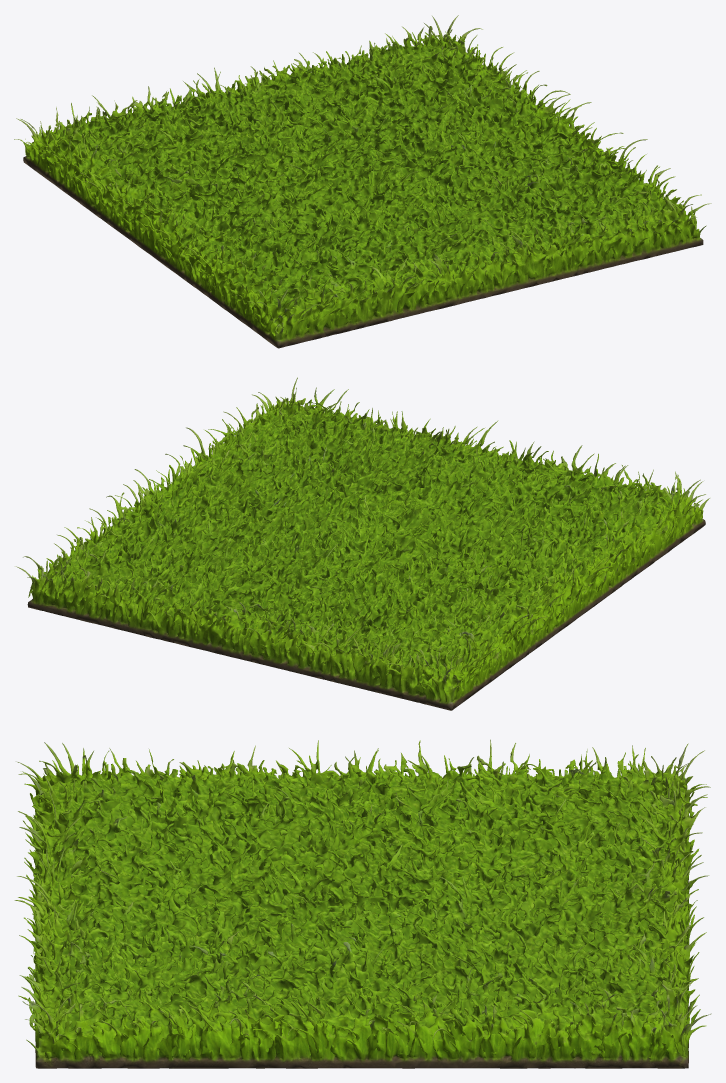
Rendered from emerald_meadow.glb.
The picture shows the model from 3 angles, top to bottom: view 1: azimuth 30°, elevation 25°; view 2: azimuth 150°, elevation 25°; view 3: azimuth 270°, elevation 25°; orthographic projection. The views are drawn at different scales.
Bounding box in the file's own units: 1.86 × 0.1877 × 1.89.
Materials: 1 (1 with a texture image).
